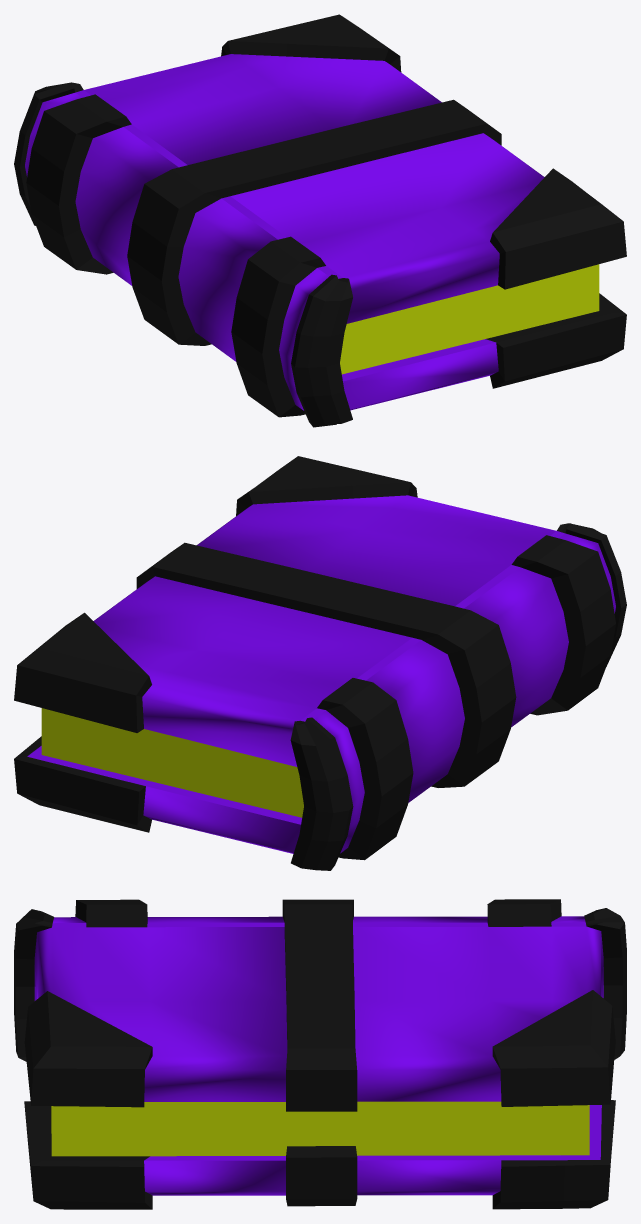
The model's file is BookV5.fbx.
3 views of the same model, one above another, from view 1: azimuth 30°, elevation 25°; view 2: azimuth 150°, elevation 25°; view 3: azimuth 270°, elevation 25° (orthographic). The views are drawn at different scales.
Parts seen in each view (by area): view 1: Cube, Cube.001; view 2: Cube, Cube.001; view 3: Cube, Cube.001.
Boxes of the visible parts, <box> form: Cube: <box>14,14,626,427</box>; Cube.001: <box>340,264,599,374</box>; Cube: <box>14,456,626,870</box>; Cube.001: <box>41,708,303,817</box>; Cube: <box>14,899,626,1209</box>; Cube.001: <box>51,1101,589,1156</box>.
Size of the model in its own units: 108 by 46.44 by 158.
